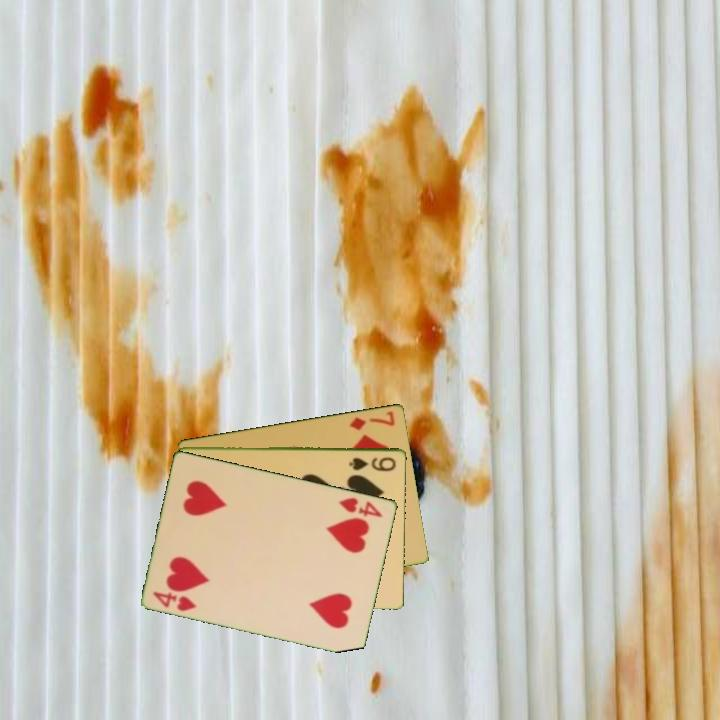4h: (336, 494, 386, 520), (150, 588, 199, 614)
7d: (346, 407, 398, 433)
9s: (346, 453, 399, 473)
